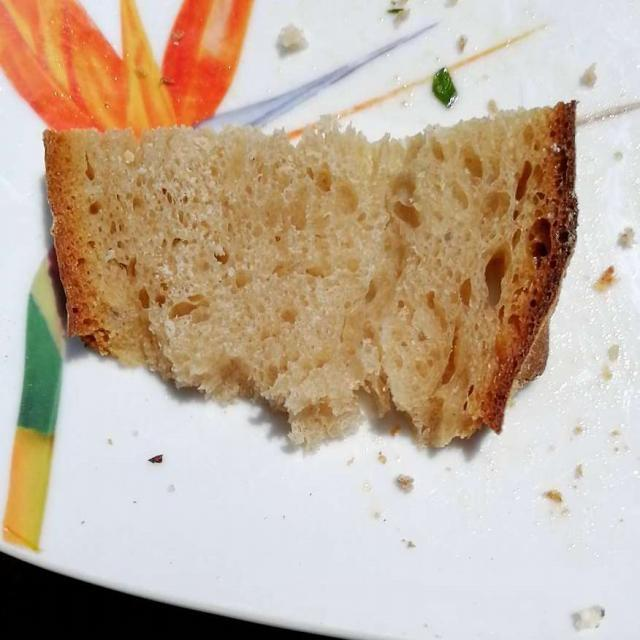bread: (53, 115, 569, 446)
